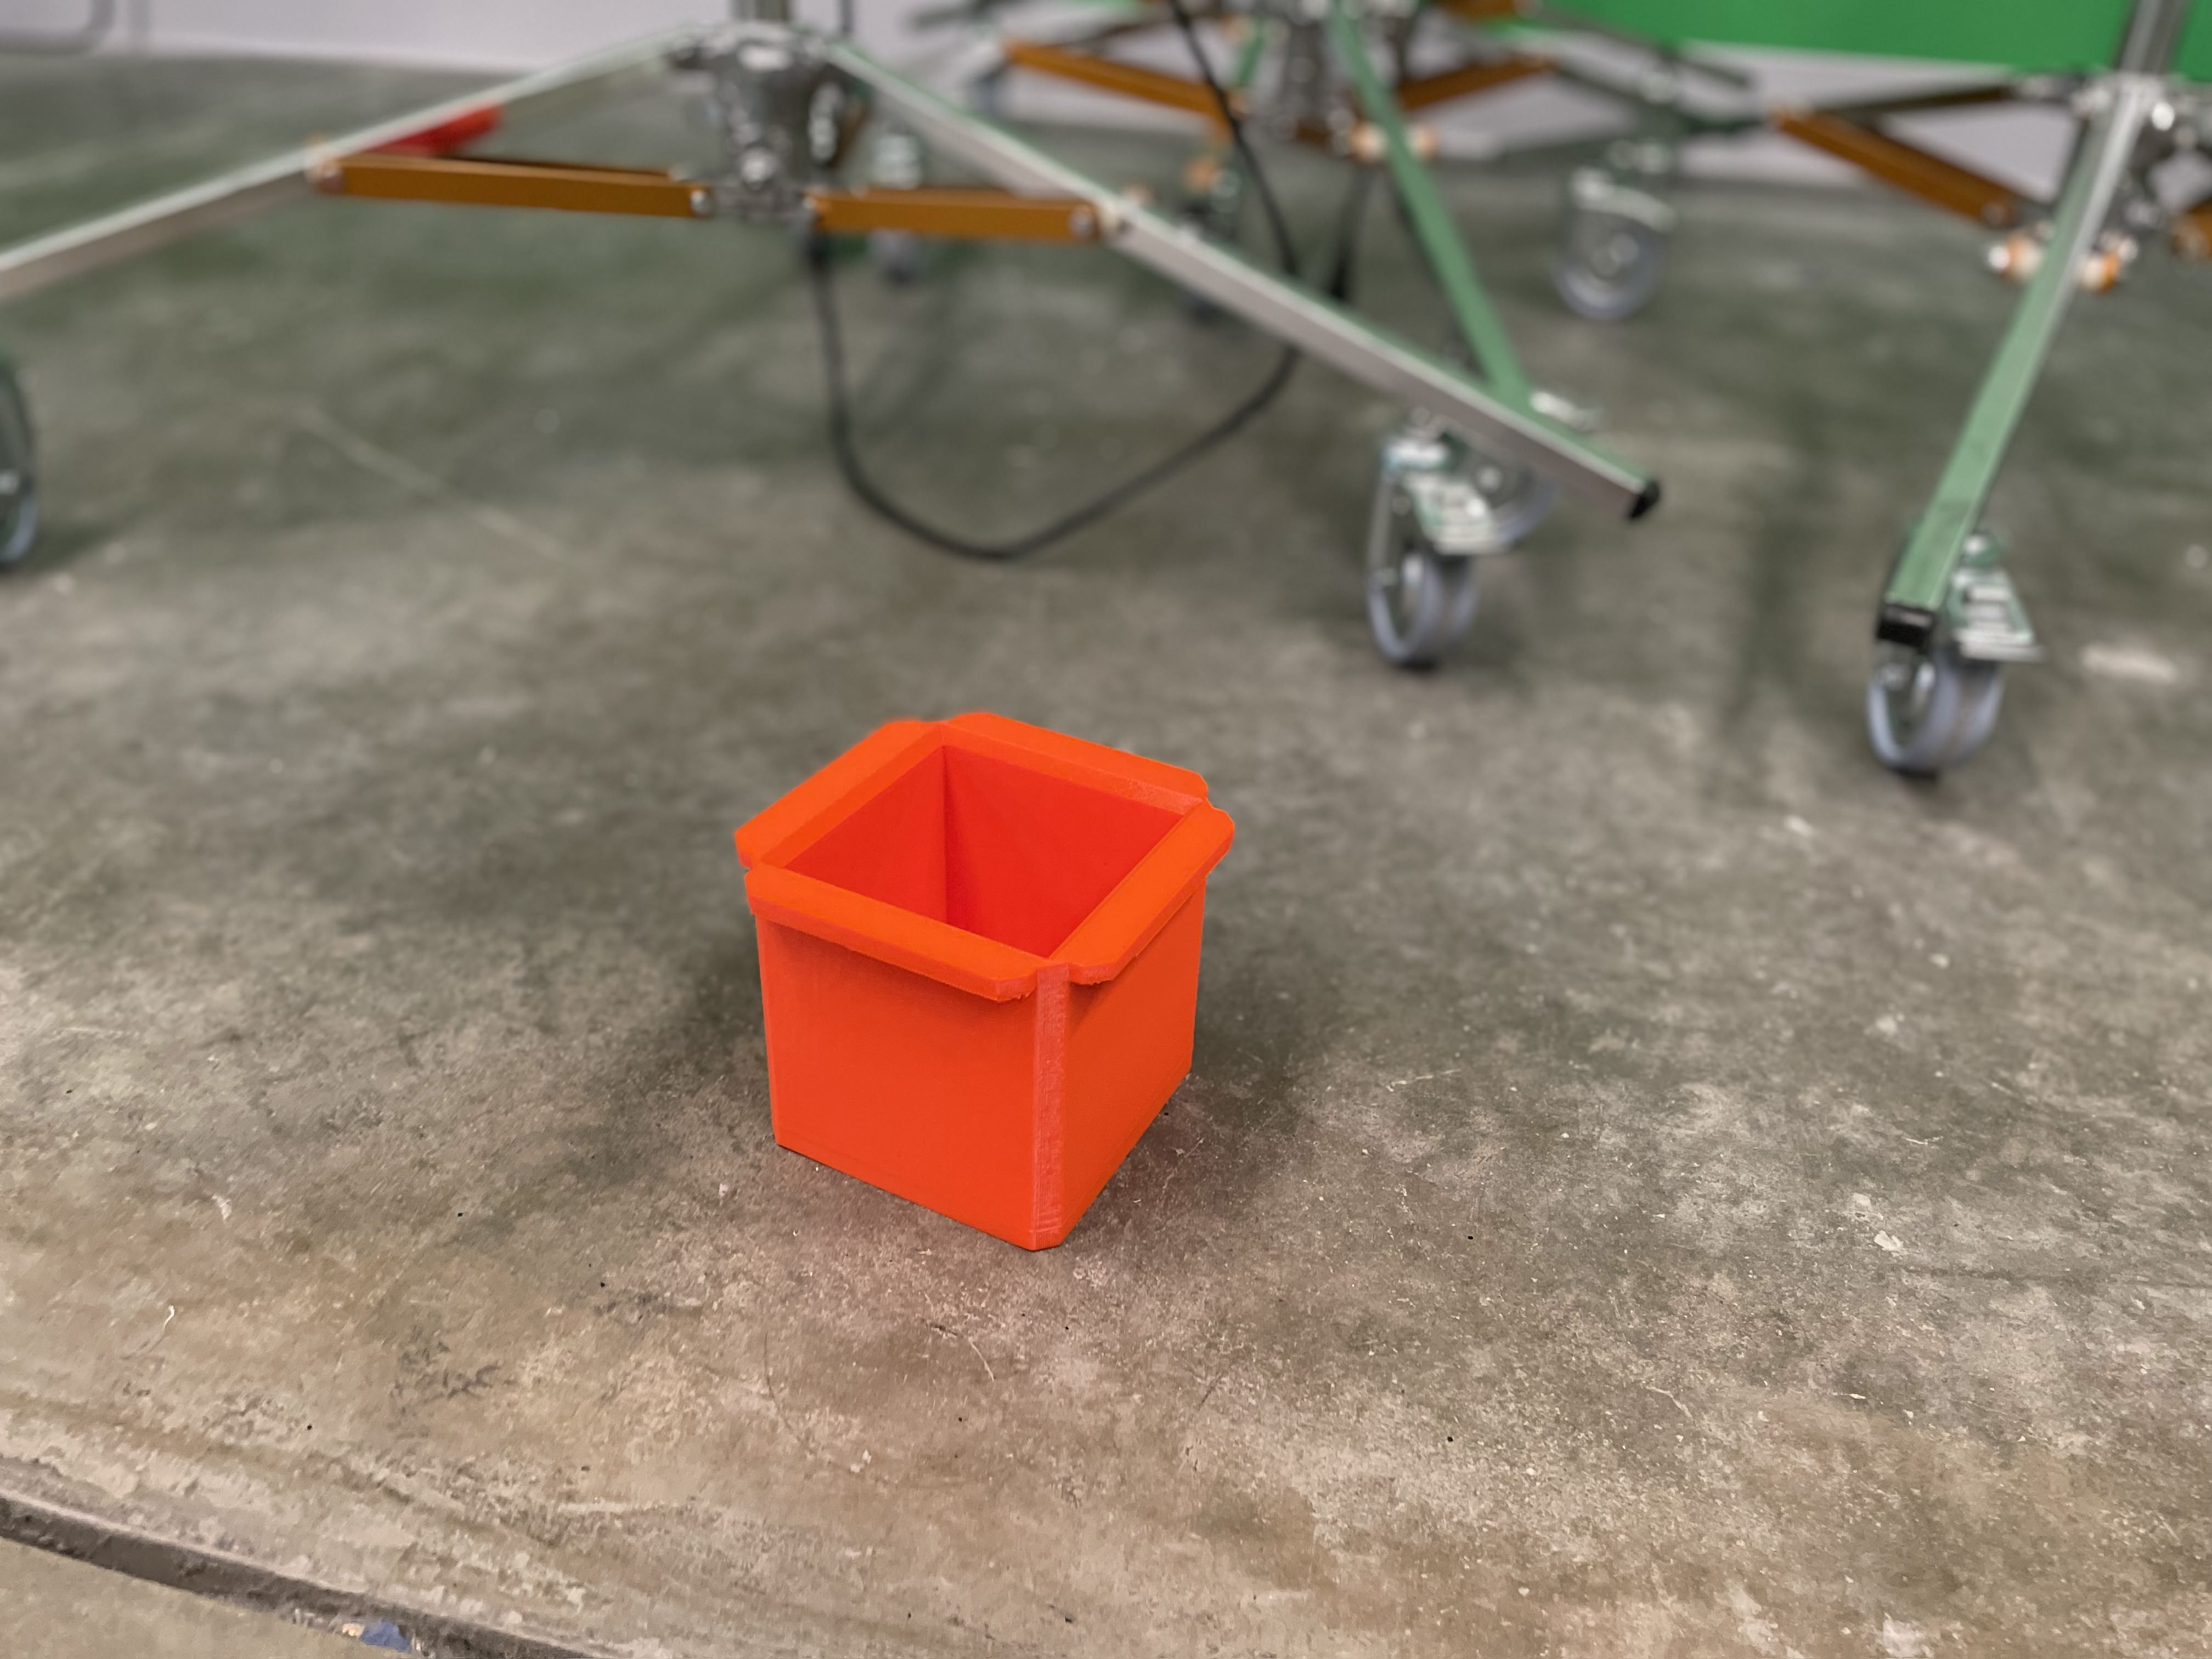payload1: (725, 699, 1254, 1253)
